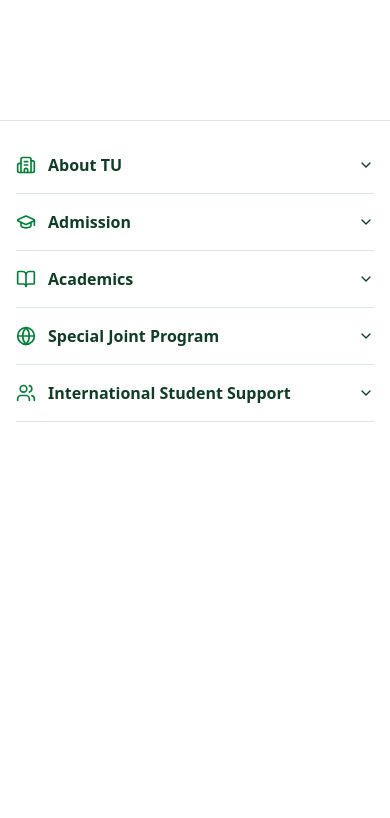
Scenario: MobileMenu › should expand accordion section on click
Click the button "About TU": (85, 165) [4,137,386,193]
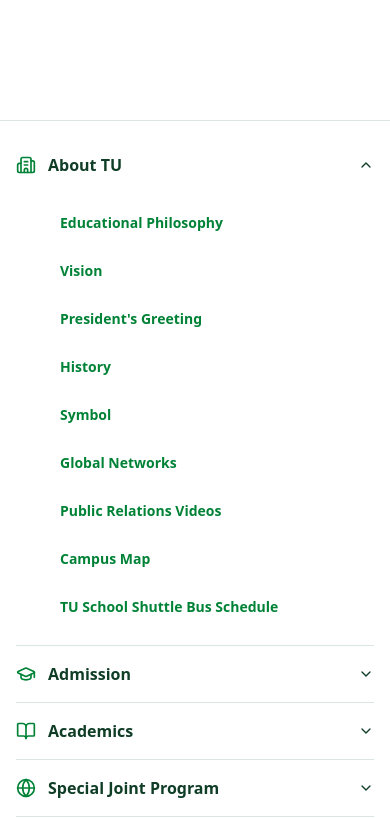
Check: the link "Educational Philosophy" is shown, box [60,213,223,232]
